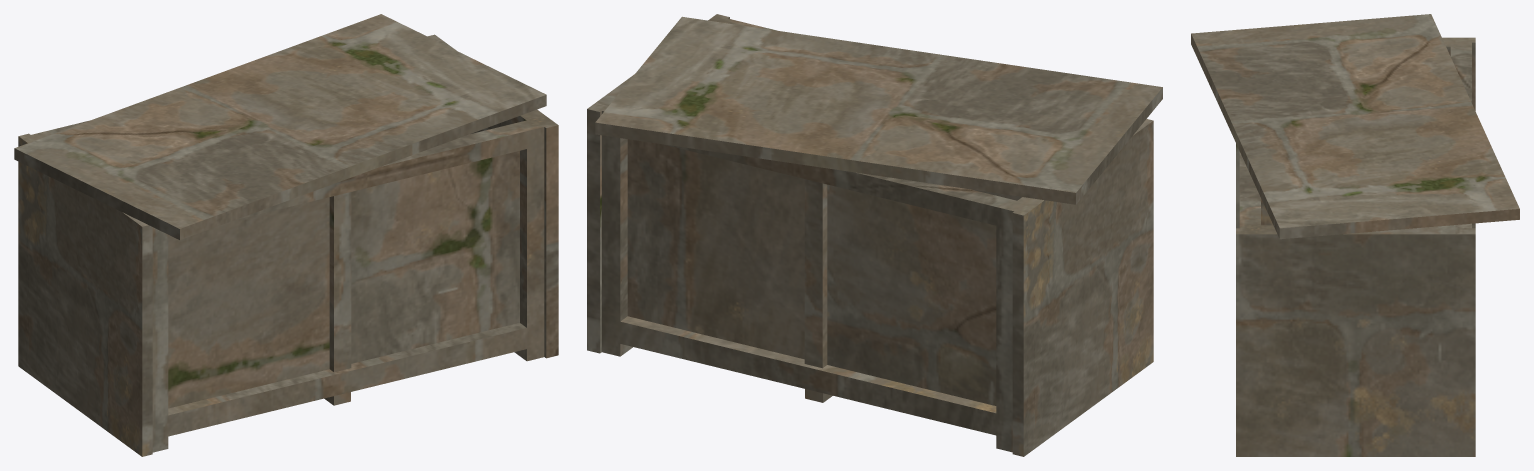
File: opencrate.fbx
3 renders of one model, left to right at view 1: azimuth 30°, elevation 25°; view 2: azimuth 150°, elevation 25°; view 3: azimuth 270°, elevation 25°, orthographic. The views are drawn at different scales.
Visible parts, largest first — view 1: Cube.367; view 2: Cube.367; view 3: Cube.367.
Part boxes in pixels (<box>): Cube.367: <box>14,14,558,456</box>; Cube.367: <box>587,14,1162,456</box>; Cube.367: <box>1191,14,1519,456</box>.
Bounding box in the file's own units: 130 × 66.29 × 84.54.
